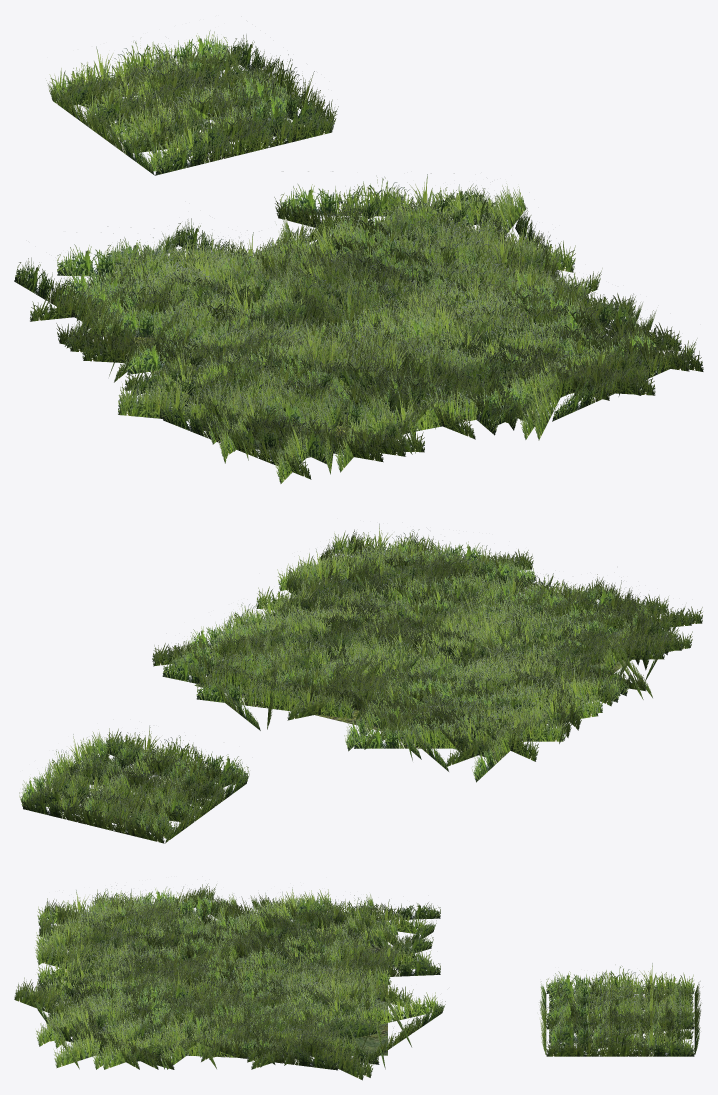
File: grass_claster__downoad__like_please.glb
3 renders of one model, top to bottom at view 1: azimuth 30°, elevation 25°; view 2: azimuth 150°, elevation 25°; view 3: azimuth 270°, elevation 25°, orthographic. The views are drawn at different scales.
Visible parts, largest first — view 1: Object_11; view 2: Object_11, Object_14; view 3: Object_11, Object_14.
Boxes of the visible parts, left/top/right/bottom form: Object_11: left=14, top=30, right=703, bottom=483; Object_11: left=19, top=523, right=702, bottom=843; Object_14: left=194, top=578, right=669, bottom=756; Object_11: left=14, top=883, right=701, bottom=1080; Object_14: left=72, top=922, right=387, bottom=1055.
Size of what is drawn, in the model's own units: 3.98 by 0.2832 by 6.35.
Materials: 2 (2 with a texture image).
